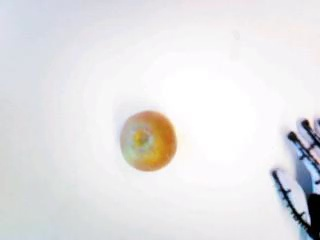apple: (118, 108, 178, 172)
hand: (270, 113, 320, 240)
